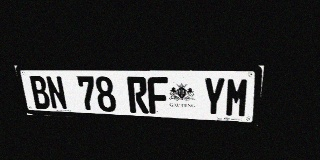7: (75, 76, 99, 111)
8: (94, 76, 117, 112)
B: (28, 76, 51, 109)
F: (147, 77, 169, 114)
M: (225, 77, 250, 118)
N: (45, 76, 68, 110)
R: (127, 76, 149, 113)
Y: (202, 77, 226, 117)
